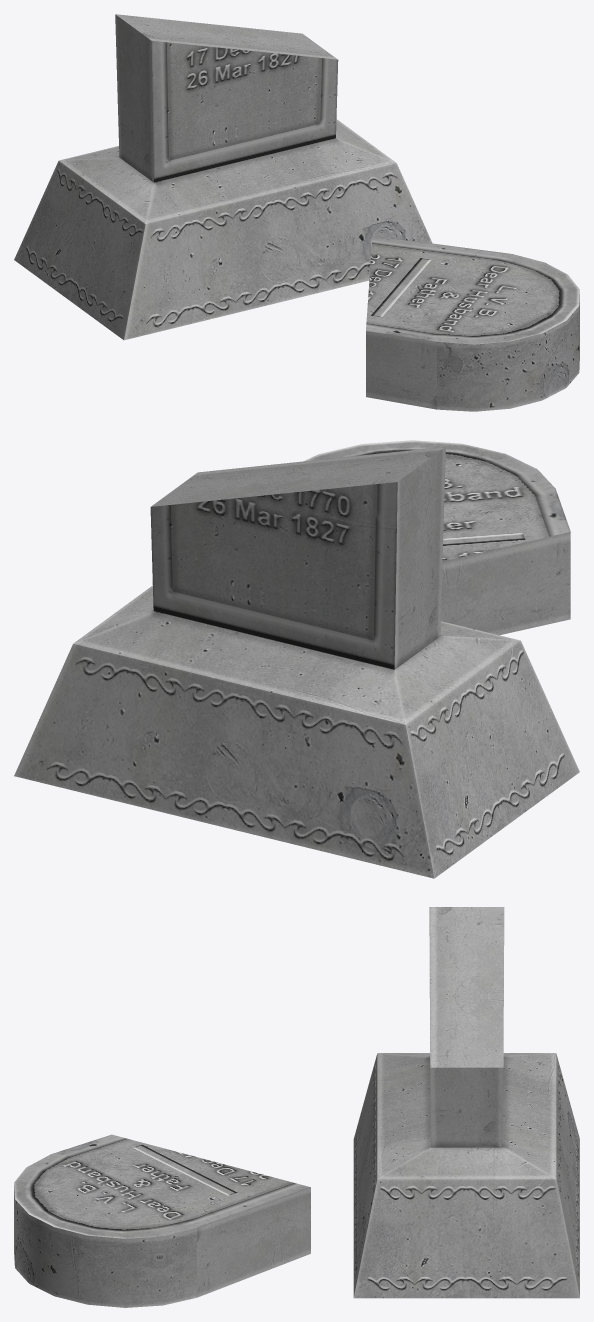
The model's file is grave1_brk.FBX.
3 renders of one model, top to bottom at view 1: azimuth 30°, elevation 25°; view 2: azimuth 150°, elevation 25°; view 3: azimuth 270°, elevation 25°, orthographic. The views are drawn at different scales.
Parts seen in each view (by area): view 1: grave1_brk; view 2: grave1_brk; view 3: grave1_brk.
Part boxes in pixels (<box>): grave1_brk: <box>14,14,579,411</box>; grave1_brk: <box>14,440,579,878</box>; grave1_brk: <box>14,907,579,1307</box>.
Bounding box in the file's own units: 52.49 × 38.95 × 75.04.
